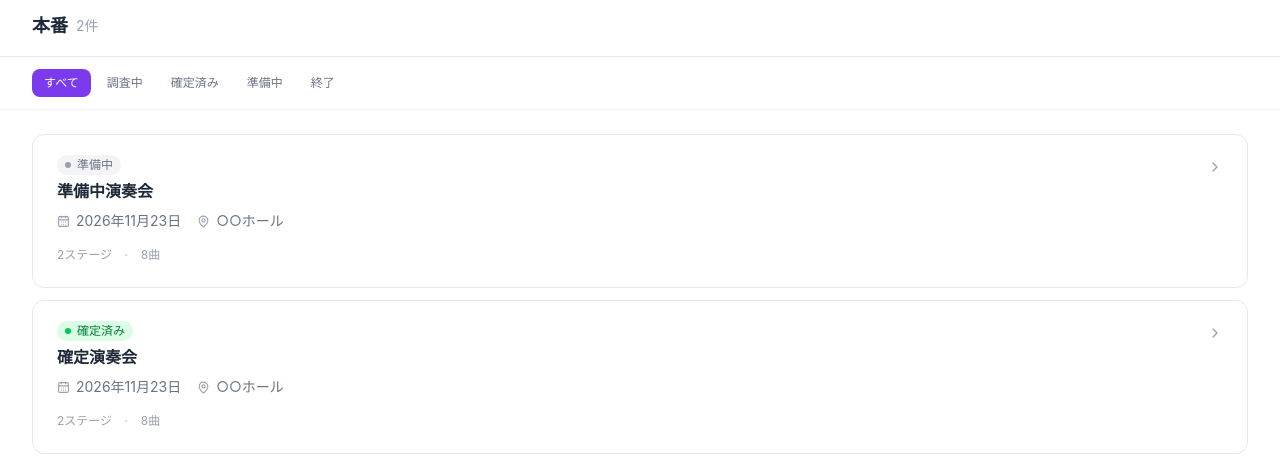
it: ConcertsPage（フィルタ） › フィルタチップをクリックすると該当statusのみ表示する
Expected: the heading "準備中演奏会" is shown, [57,181,153,201]
Step 1. Click the button "確定済み" → [195, 83], box [159,69,231,97]
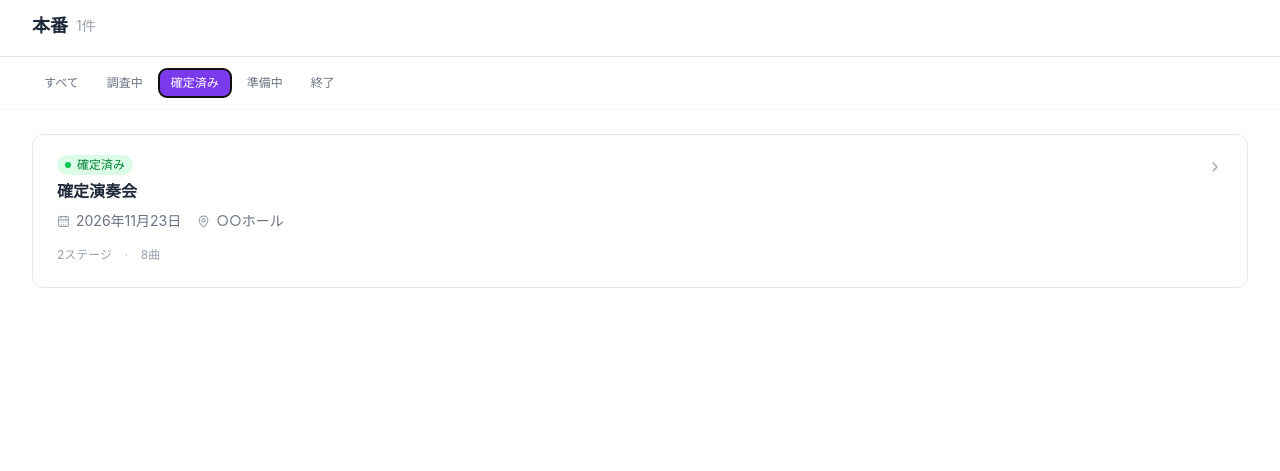
Expected: the heading "確定演奏会" is shown, [57,181,137,201]
Expected: the link "準備中演奏会" is gone
